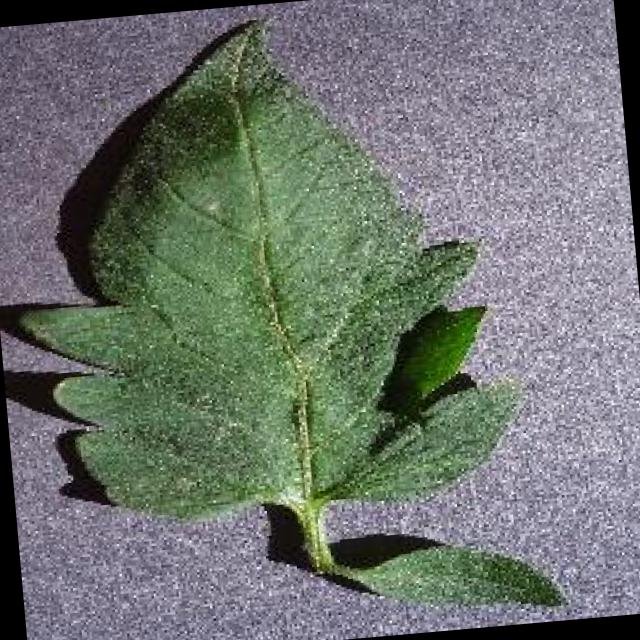Tomato_Healthy: (6, 0, 540, 593)
